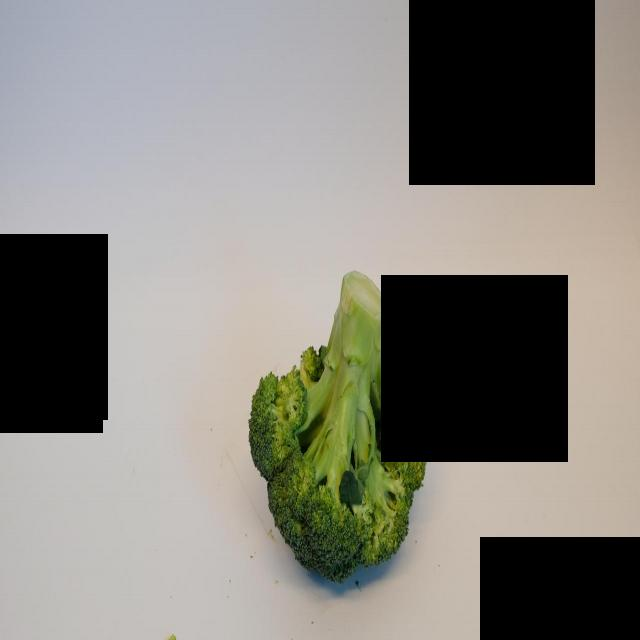broccoli: (246, 262, 434, 588)
